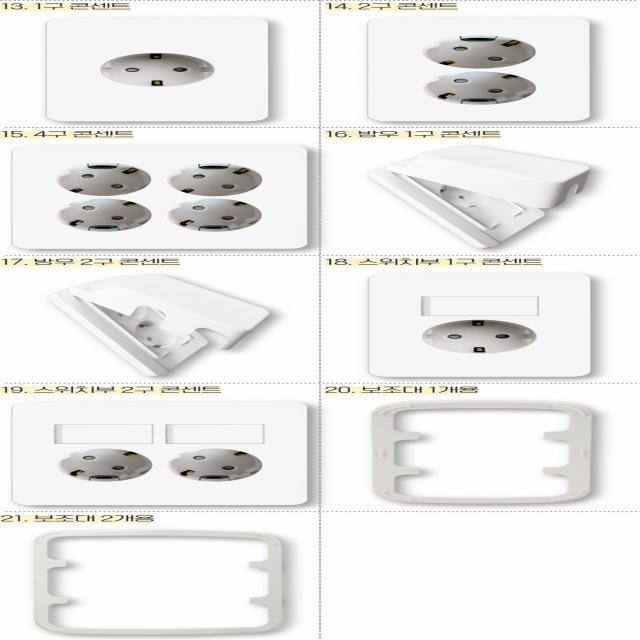typeb: (1, 141, 325, 255), (16, 397, 325, 510), (343, 10, 598, 128), (46, 10, 288, 133), (348, 272, 613, 384), (353, 146, 616, 255), (51, 274, 288, 386)
